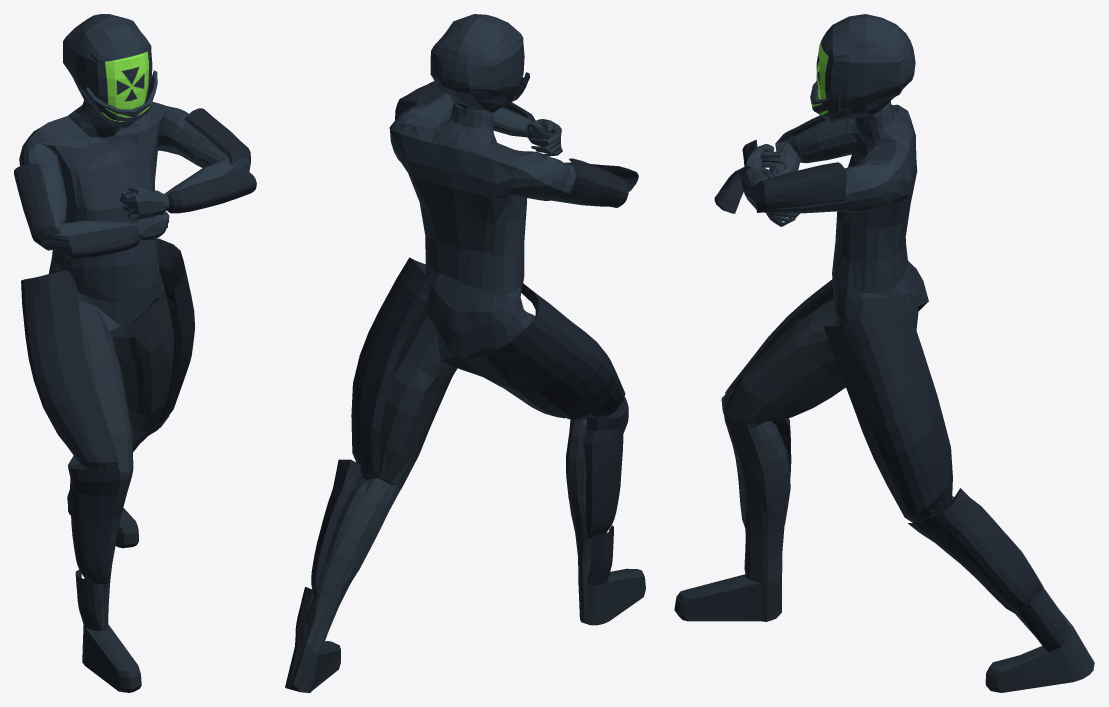
Rendered from Bastion_WR_000002.obj.
The picture shows the model from 3 angles, left to right: view 1: azimuth 30°, elevation 25°; view 2: azimuth 150°, elevation 25°; view 3: azimuth 270°, elevation 25°; orthographic projection. The views are drawn at different scales.
Visible parts, largest first — view 1: Cube.002; view 2: Cube.002; view 3: Cube.002.
Part boxes in pixels (x1,y1,x2,y2): Cube.002: (14,14,256,692); Cube.002: (285,14,645,692); Cube.002: (674,14,1094,692).
Bounding box in the file's own units: 1.32 × 3.58 × 2.16.
